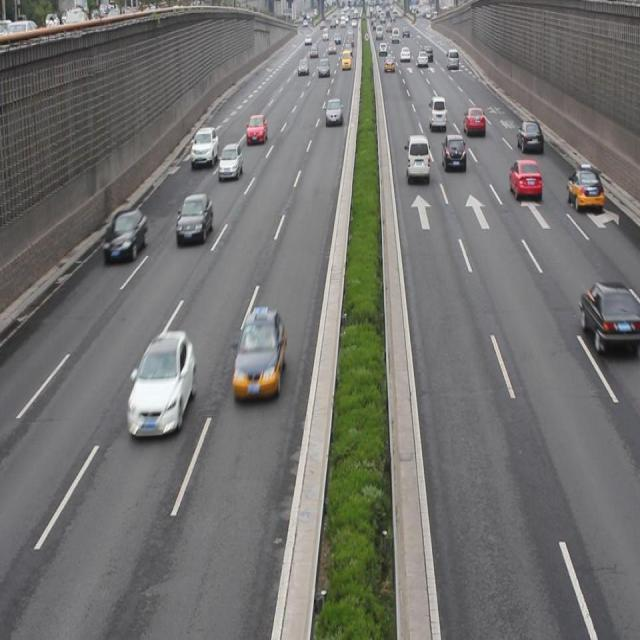car: (127, 329, 195, 440), (231, 309, 286, 400), (578, 279, 640, 352), (104, 207, 148, 265), (176, 192, 213, 244), (564, 165, 602, 212), (508, 157, 542, 200), (190, 124, 218, 168), (218, 142, 244, 182), (442, 132, 466, 173), (516, 119, 542, 155), (245, 113, 268, 147), (463, 105, 485, 138)
truck: (405, 133, 429, 183), (428, 95, 446, 131)
